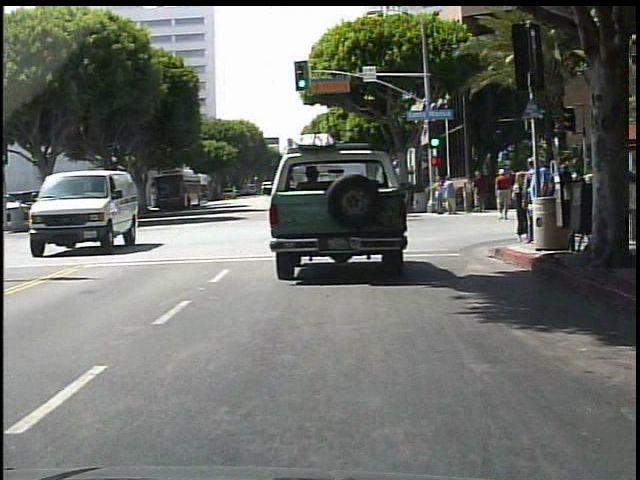person: (527, 155, 554, 253), (509, 170, 528, 244), (524, 155, 539, 246), (492, 169, 514, 221), (520, 178, 538, 227), (540, 171, 554, 219), (442, 178, 457, 218), (474, 170, 487, 212), (463, 176, 475, 214), (435, 178, 445, 217)
